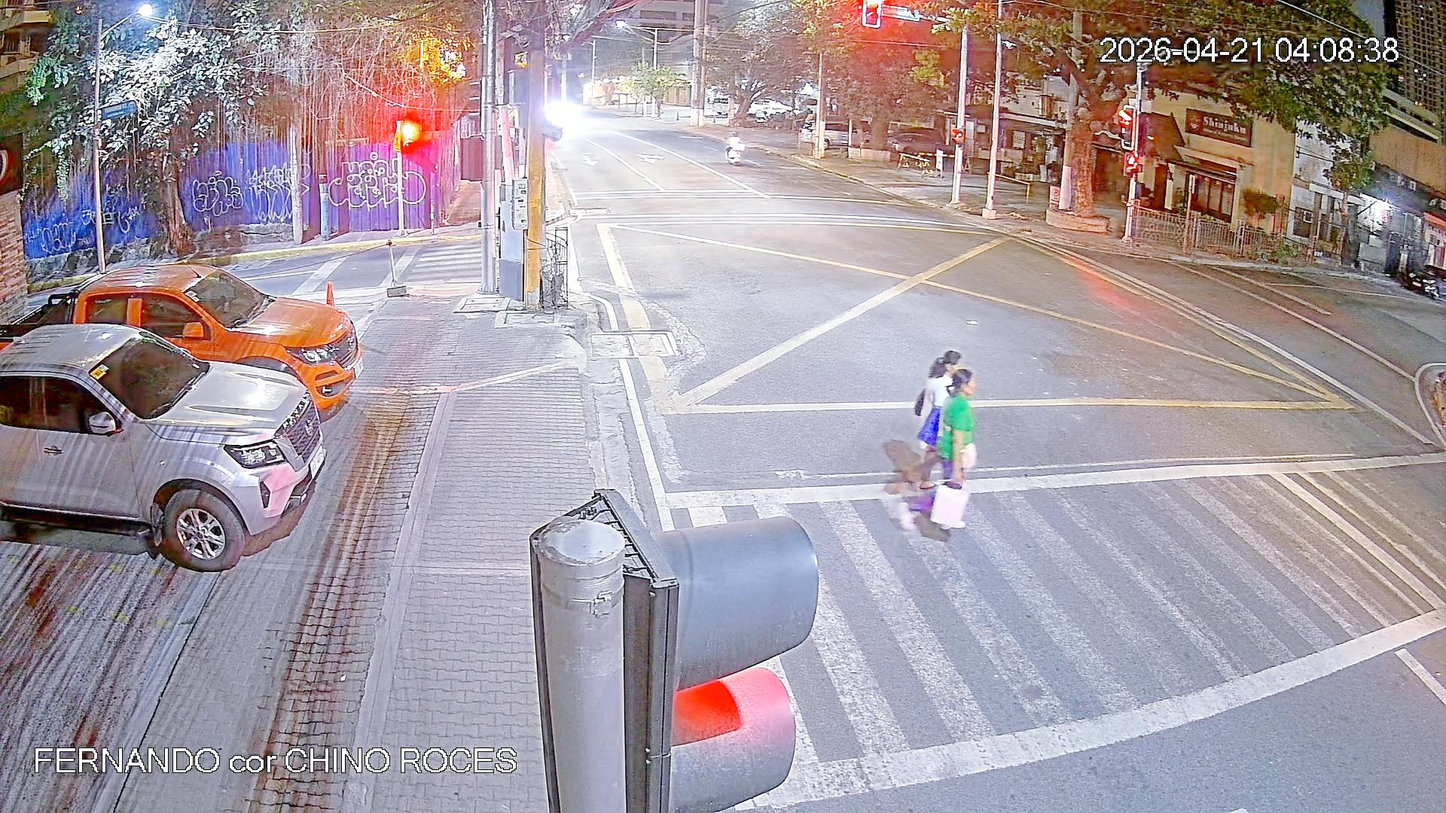Car: (0, 316, 334, 585), (5, 253, 374, 418), (794, 113, 882, 157)
Motor: (723, 130, 749, 170)
